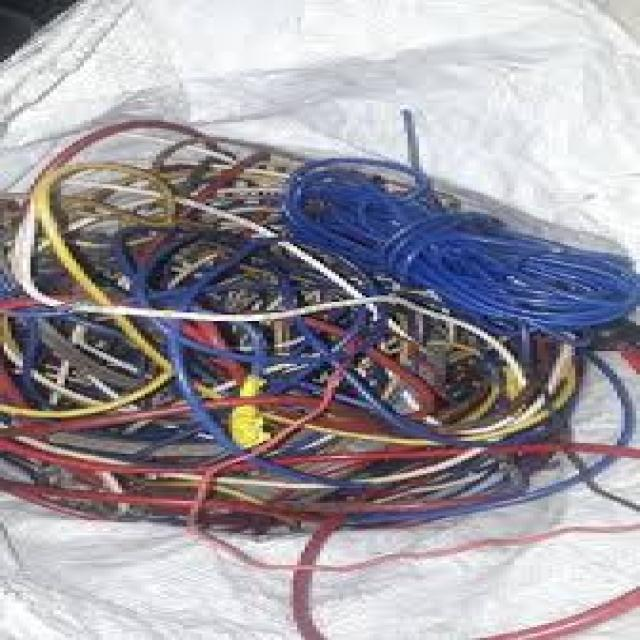Hazard: (0, 148, 613, 520)
